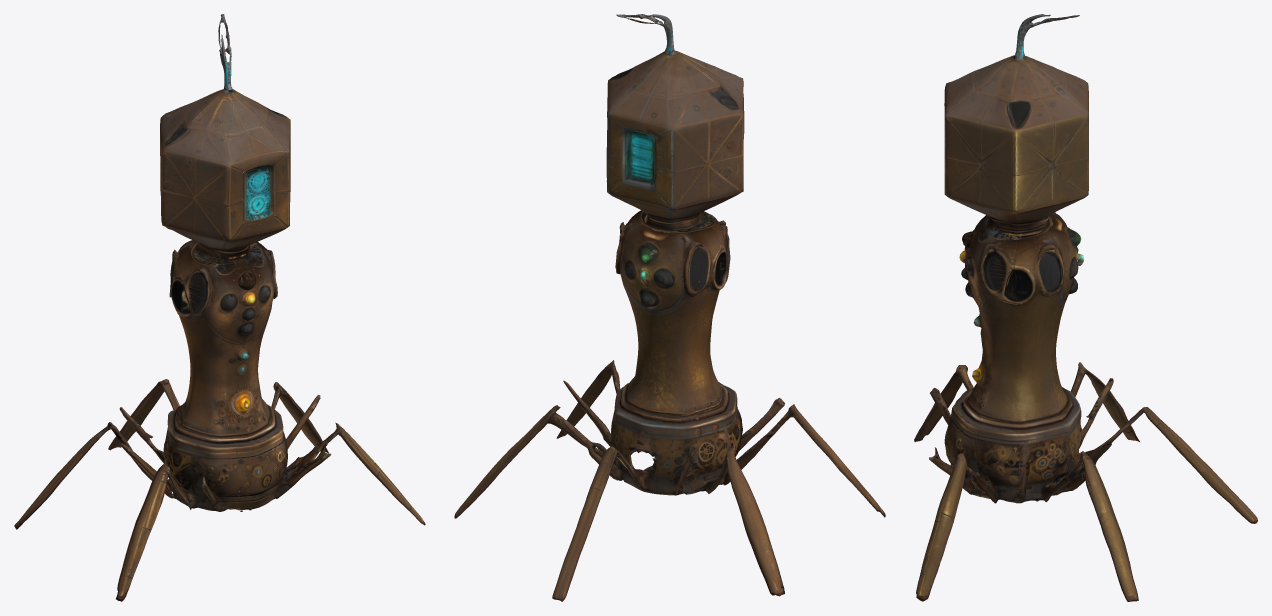
The model's file is Retro_Techno_Insect_0806152942_texture.fbx.
The picture shows the model from 3 angles, left to right: view 1: azimuth 30°, elevation 25°; view 2: azimuth 150°, elevation 25°; view 3: azimuth 270°, elevation 25°; orthographic projection. The views are drawn at different scales.
Parts seen in each view (by area): view 1: input; view 2: input; view 3: input.
Boxes of the visible parts, bbox=[...] form: input: bbox=[14, 14, 425, 601]; input: bbox=[454, 14, 885, 601]; input: bbox=[914, 14, 1257, 601].
Size of the model in its own units: 132 by 197 by 118.
1 material, 1 textured.
